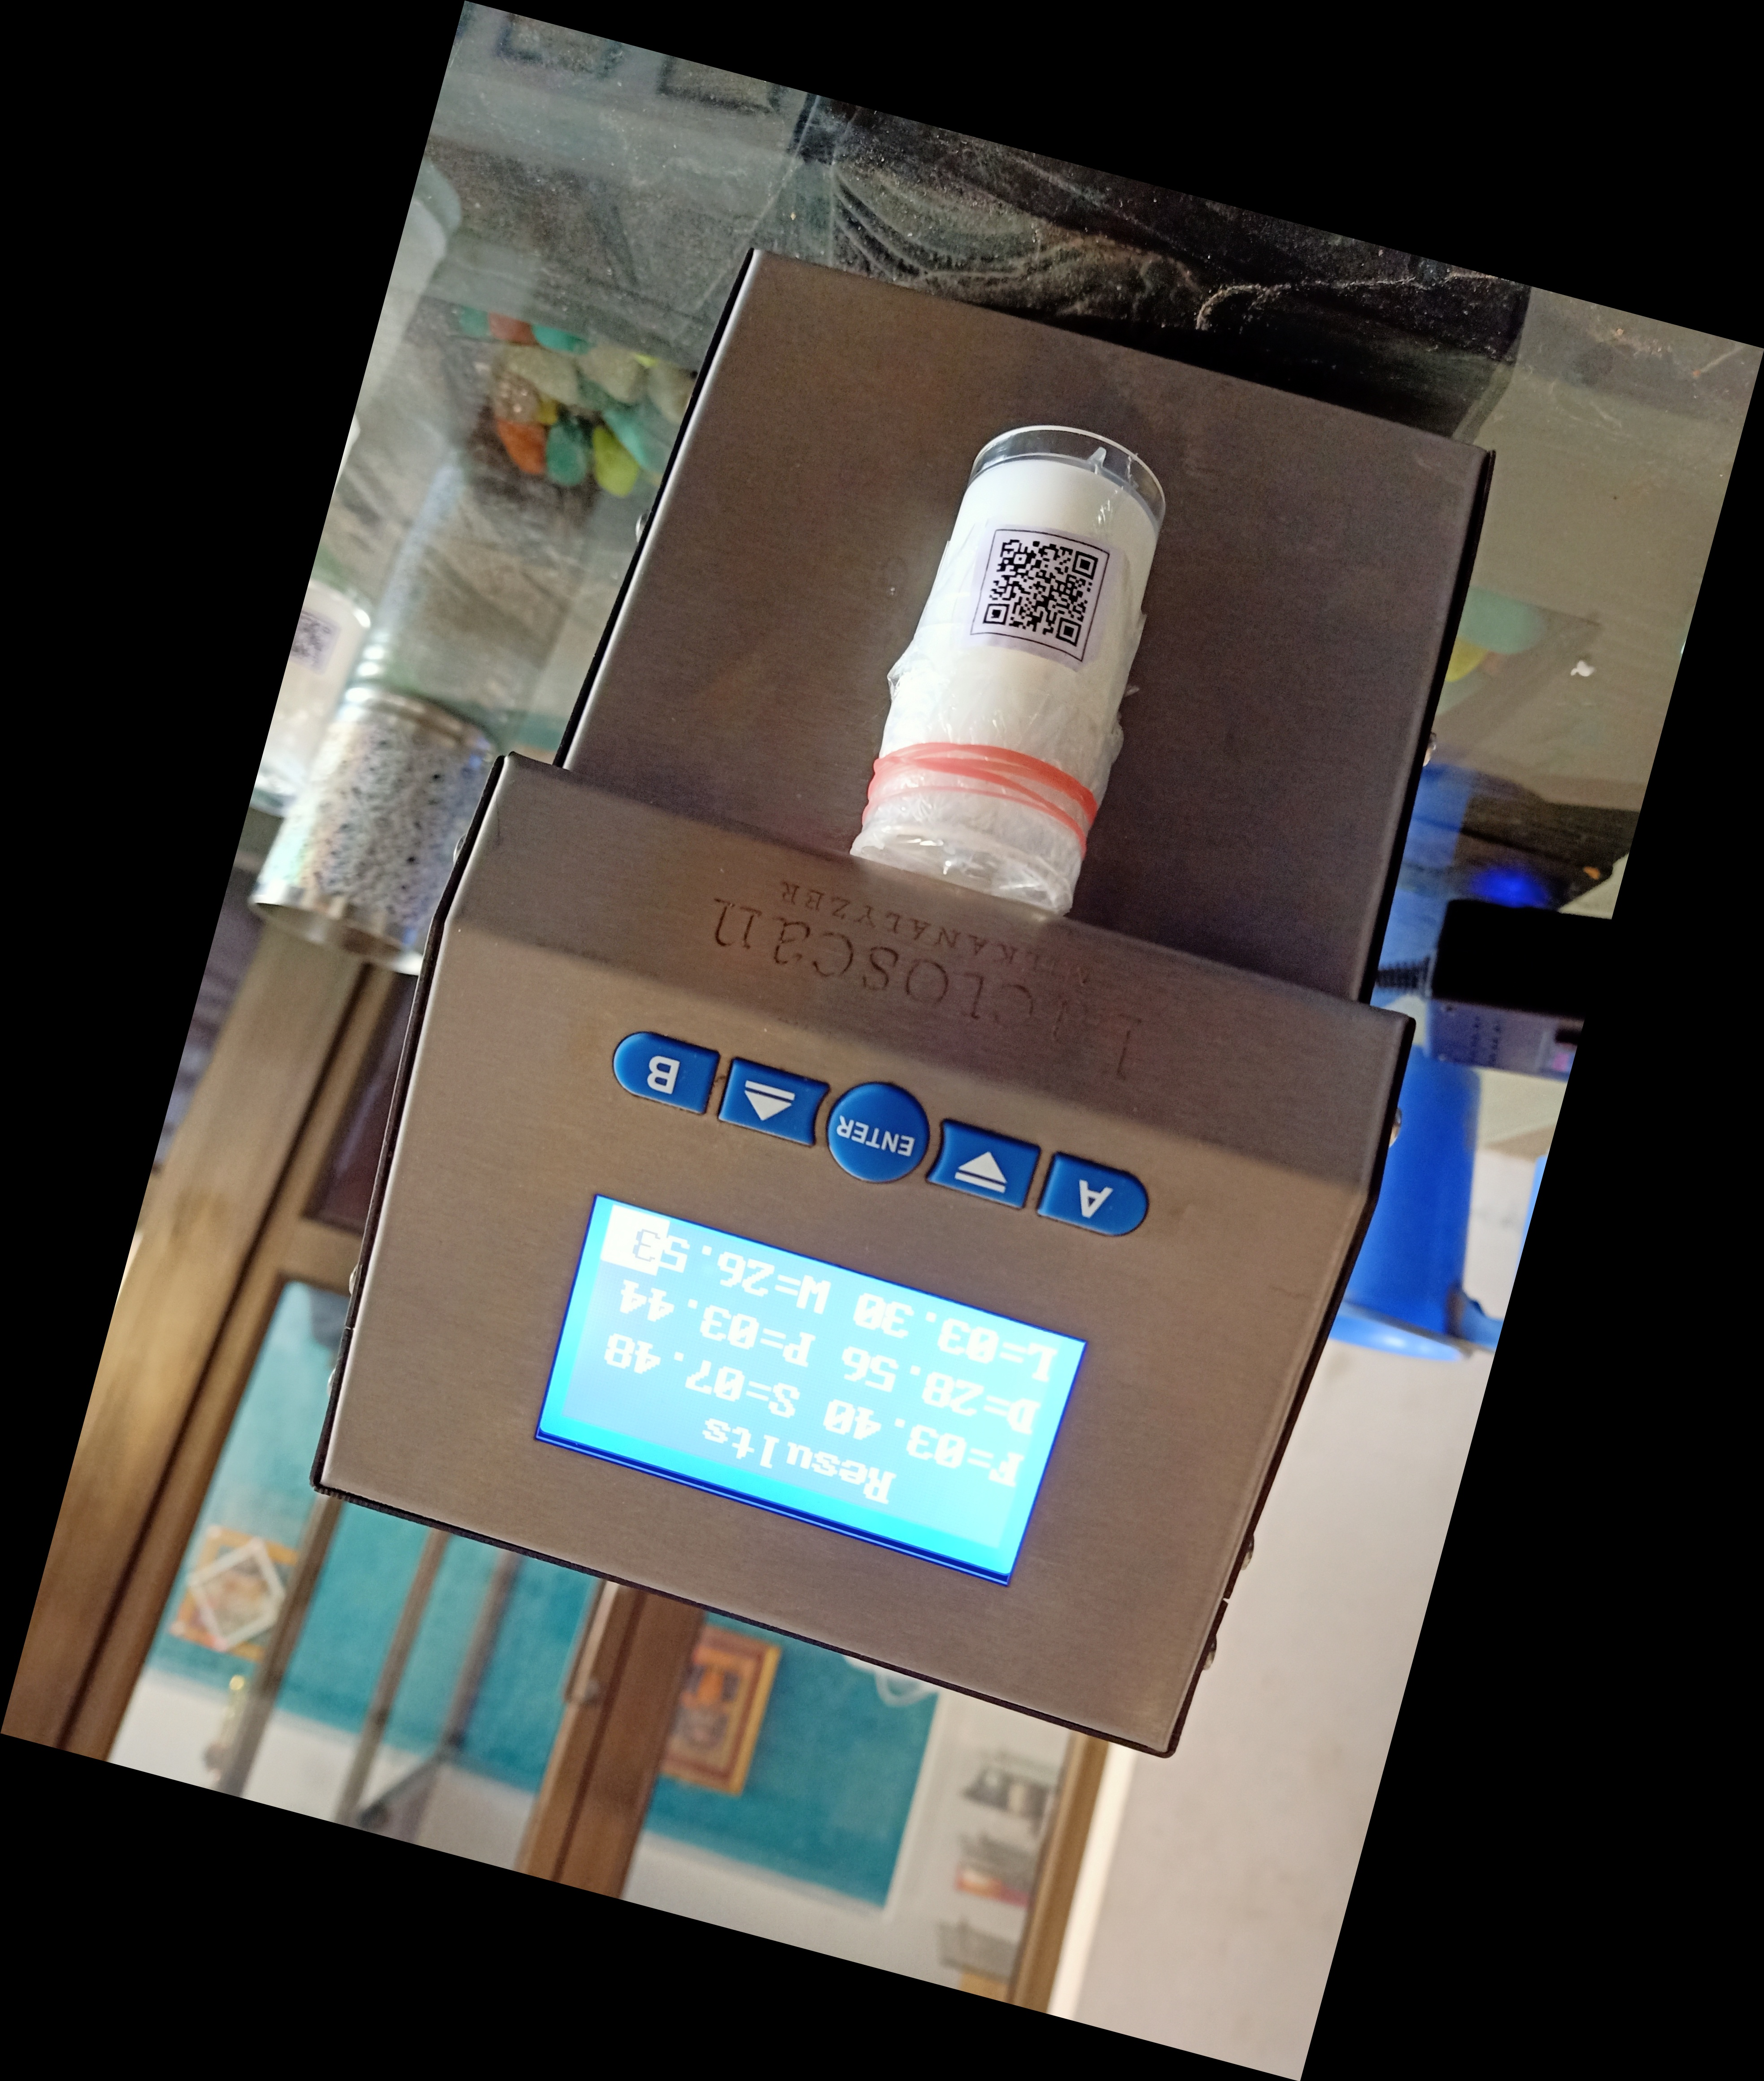lcd: (511, 1178, 1104, 1617)
qr: (957, 511, 1115, 669)
